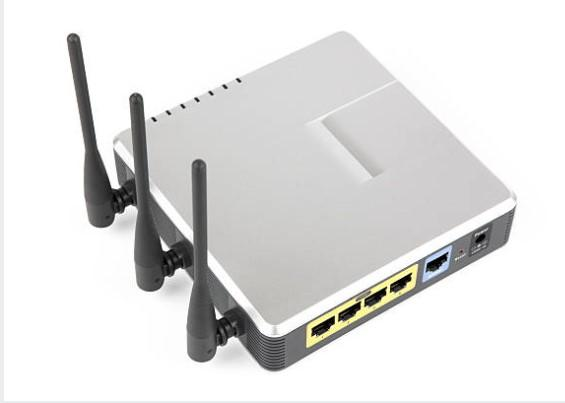Router: (67, 32, 517, 370)
